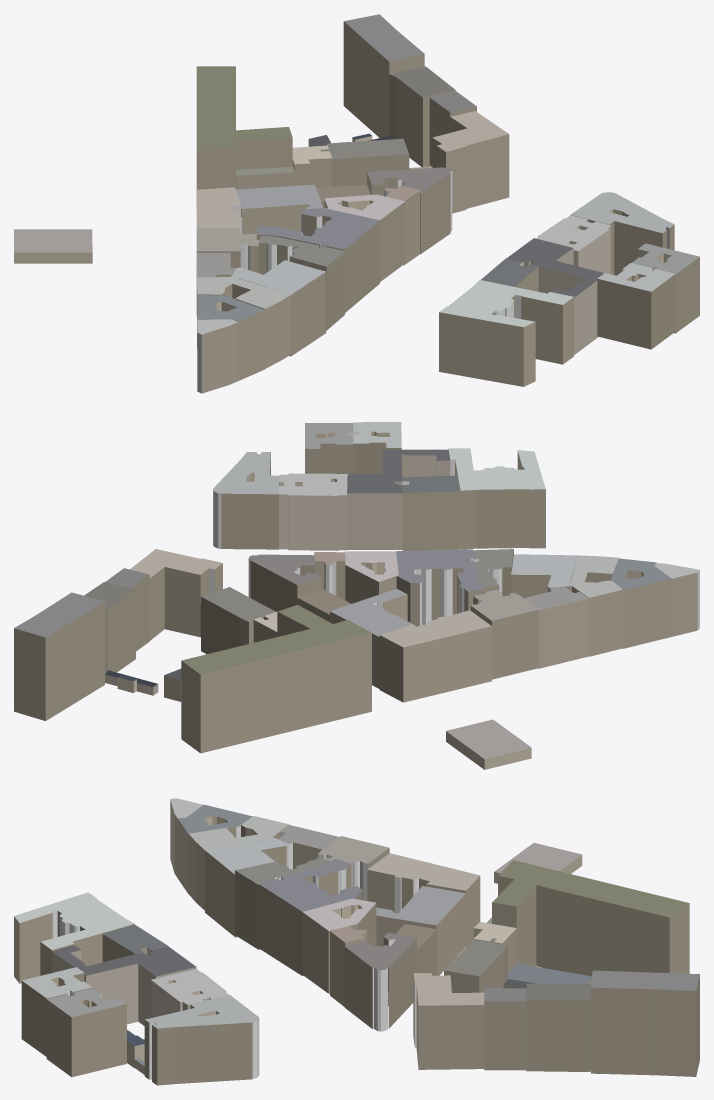
3 views of the same model, one above another, from view 1: azimuth 30°, elevation 25°; view 2: azimuth 150°, elevation 25°; view 3: azimuth 270°, elevation 25° (orthographic). The views are drawn at different scales.
Parts seen in each view (by area): view 1: tuile; view 2: tuile; view 3: tuile.
Boxes of the visible parts, bbox=[...] form: tuile: bbox=[14, 14, 699, 393]; tuile: bbox=[14, 422, 699, 769]; tuile: bbox=[14, 798, 699, 1085].
Size of the model in its own units: 219 by 37.29 by 270.
